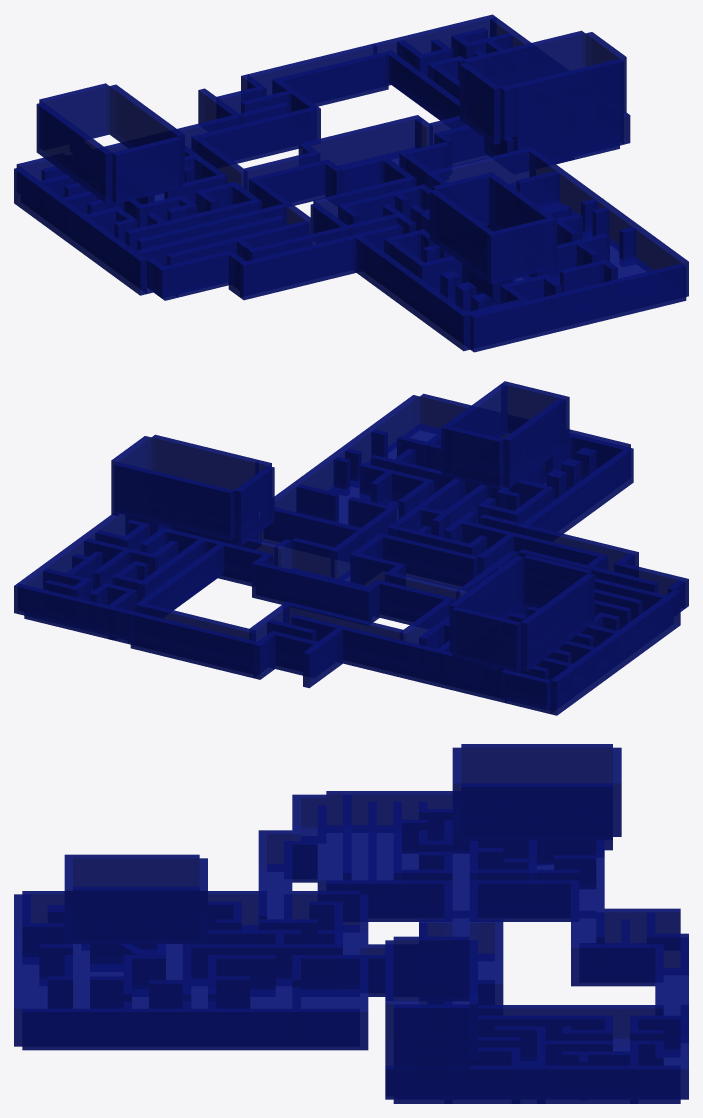
Rendered from level0.gltf.
3 renders of one model, top to bottom at view 1: azimuth 30°, elevation 25°; view 2: azimuth 150°, elevation 25°; view 3: azimuth 270°, elevation 25°, orthographic. The views are drawn at different scales.
Parts seen in each view (by area): view 1: entity0_brush94, entity0_brush12, entity0_brush17, entity0_brush13, entity0_brush103, entity0_brush211, entity0_brush149, entity0_brush217, entity0_brush7, entity0_brush214, entity0_brush206, entity0_brush150 (+56 smaller); view 2: entity0_brush217, entity0_brush16, entity0_brush17, entity0_brush151, entity0_brush26, entity0_brush211, entity0_brush13, entity0_brush92, entity0_brush94, entity0_brush7, entity0_brush213, entity0_brush209 (+60 smaller); view 3: entity0_brush7, entity0_brush93, entity0_brush212, entity0_brush4, entity0_brush207, entity0_brush211, entity0_brush6, entity0_brush201, entity0_brush218, entity0_brush14, entity0_brush209, entity0_brush19 (+64 smaller).
Part boxes in pixels (x1=…): entity0_brush94: x1=514, y1=58, x2=623, y2=161; entity0_brush12: x1=470, y1=263, x2=686, y2=352; entity0_brush17: x1=14, y1=167, x2=146, y2=295; entity0_brush13: x1=353, y1=234, x2=470, y2=351; entity0_brush103: x1=240, y1=234, x2=362, y2=300; entity0_brush211: x1=36, y1=102, x2=112, y2=202; entity0_brush149: x1=198, y1=106, x2=320, y2=163; entity0_brush217: x1=462, y1=30, x2=585, y2=87; entity0_brush7: x1=529, y1=149, x2=688, y2=296; entity0_brush214: x1=112, y1=136, x2=182, y2=203; entity0_brush206: x1=487, y1=217, x2=557, y2=284; entity0_brush150: x1=272, y1=52, x2=388, y2=106; entity0_brush217: x1=114, y1=462, x2=234, y2=540; entity0_brush16: x1=337, y1=625, x2=506, y2=702; entity0_brush17: x1=550, y1=590, x2=680, y2=715; entity0_brush151: x1=130, y1=611, x2=256, y2=678; entity0_brush26: x1=252, y1=561, x2=372, y2=621; entity0_brush211: x1=521, y1=573, x2=594, y2=671; entity0_brush13: x1=518, y1=447, x2=633, y2=535; entity0_brush92: x1=14, y1=583, x2=133, y2=641; entity0_brush94: x1=151, y1=434, x2=258, y2=490; entity0_brush7: x1=264, y1=395, x2=419, y2=537; entity0_brush213: x1=452, y1=606, x2=520, y2=672; entity0_brush209: x1=503, y1=398, x2=565, y2=488; entity0_brush7: x1=22, y1=1008, x2=359, y2=1050; entity0_brush93: x1=385, y1=1065, x2=680, y2=1099; entity0_brush212: x1=461, y1=783, x2=612, y2=840; entity0_brush4: x1=22, y1=925, x2=359, y2=1045; entity0_brush207: x1=73, y1=886, x2=199, y2=943; entity0_brush211: x1=461, y1=744, x2=612, y2=783; entity0_brush6: x1=326, y1=825, x2=596, y2=917; entity0_brush201: x1=393, y1=1004, x2=469, y2=1069; entity0_brush218: x1=393, y1=936, x2=469, y2=1001; entity0_brush14: x1=469, y1=880, x2=579, y2=921; entity0_brush209: x1=73, y1=854, x2=199, y2=886; entity0_brush19: x1=326, y1=880, x2=452, y2=921.
Size of the model in its own units: 125 by 20.8 by 128.
